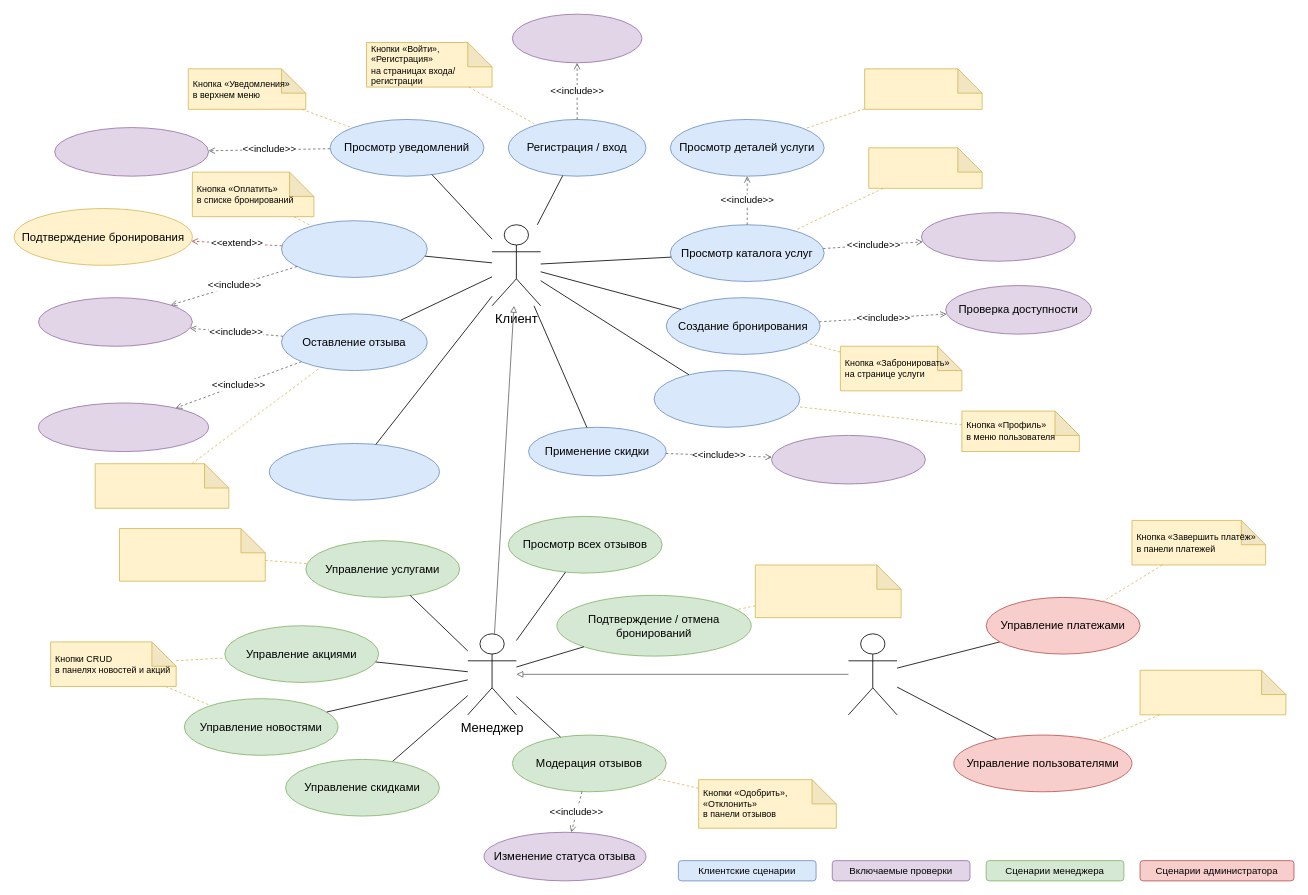
This 1308x895 diagram has some shape labels left out. The shapes that lost their labels are listed below. From the top down, each one's centre as x and y in pixels, then its label:
[577,38]: Проверка JWT
[923,88]: Кнопка «Подробнее» на карточке услуги
[131,151]: Подсчёт непрочитанных
[925,167]: Кнопка «Каталог» на главной странице
[354,248]: Оплата бронирования
[998,236]: Фильтрация по категориям
[115,321]: Проверка статуса брони
[726,398]: Управление профилем
[123,427]: Проверка дубликата отзыва
[354,471]: Просмотр своих бронирований
[848,459]: Проверка срока действия
[161,485]: Кнопка «Оставить отзыв» у подтверждённой брони
[192,554]: Кнопки «Добавить», «Изменить», «Удалить» в панели услуг
[828,591]: Кнопки «Подтвердить», «Отменить» в панели бронирований
[872,674]: Администратор
[1212,692]: Кнопки управления пользователями в админ-панели
